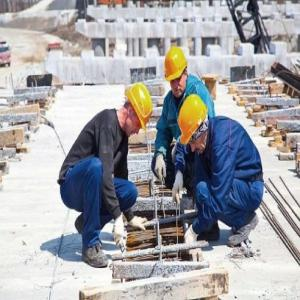yellow: (178, 95, 212, 157), (122, 84, 154, 139), (163, 46, 191, 97)
